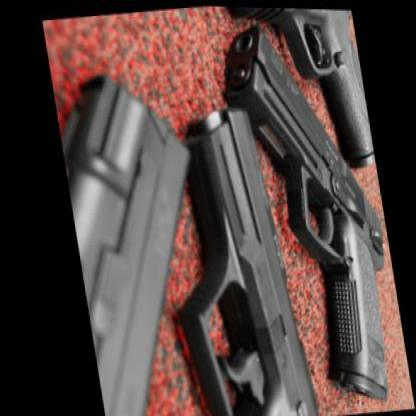pistol: (212, 5, 403, 411), (126, 90, 326, 414), (49, 56, 228, 415), (217, 5, 376, 182)
